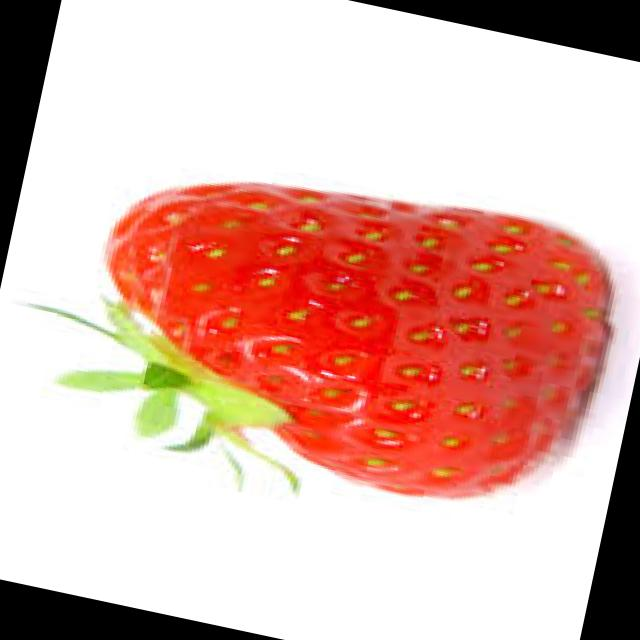strawberry: (21, 108, 633, 550)
